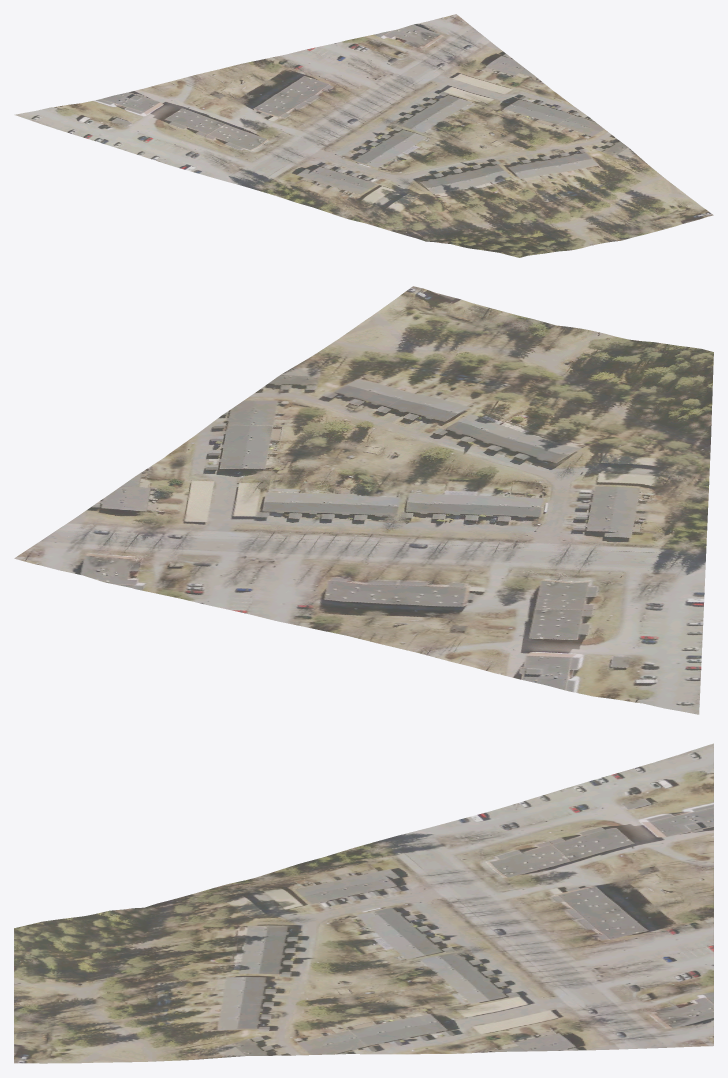
Rendered from CM_Terrain_24491687_6814469.fbx.
3 views of the same model, one above another, from view 1: azimuth 30°, elevation 25°; view 2: azimuth 150°, elevation 25°; view 3: azimuth 270°, elevation 25° (orthographic). The views are drawn at different scales.
Parts seen in each view (by area): view 1: CM_Terrain_24491687_6814469_LOD0; view 2: CM_Terrain_24491687_6814469_LOD0; view 3: CM_Terrain_24491687_6814469_LOD0.
Boxes of the visible parts, x1,y1,x2,y2 form: CM_Terrain_24491687_6814469_LOD0: [14, 14, 713, 257]; CM_Terrain_24491687_6814469_LOD0: [14, 286, 713, 714]; CM_Terrain_24491687_6814469_LOD0: [14, 743, 713, 1063].
Size of what is drawn, in the model's own units: 203 by 10.03 by 205.
